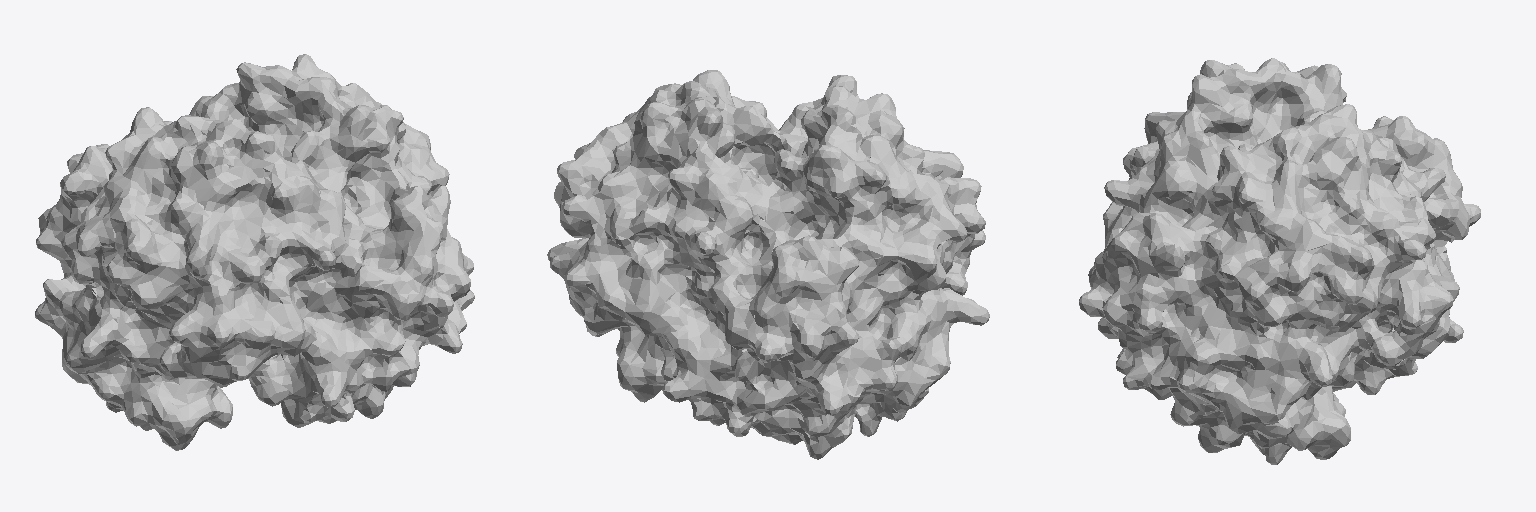
Rendered from deo10k.obj.
The picture shows the model from 3 angles: view 1: azimuth 30°, elevation 25°; view 2: azimuth 150°, elevation 25°; view 3: azimuth 270°, elevation 25°; orthographic projection.
Size of the model in its own units: 71.37 by 56.45 by 62.93.